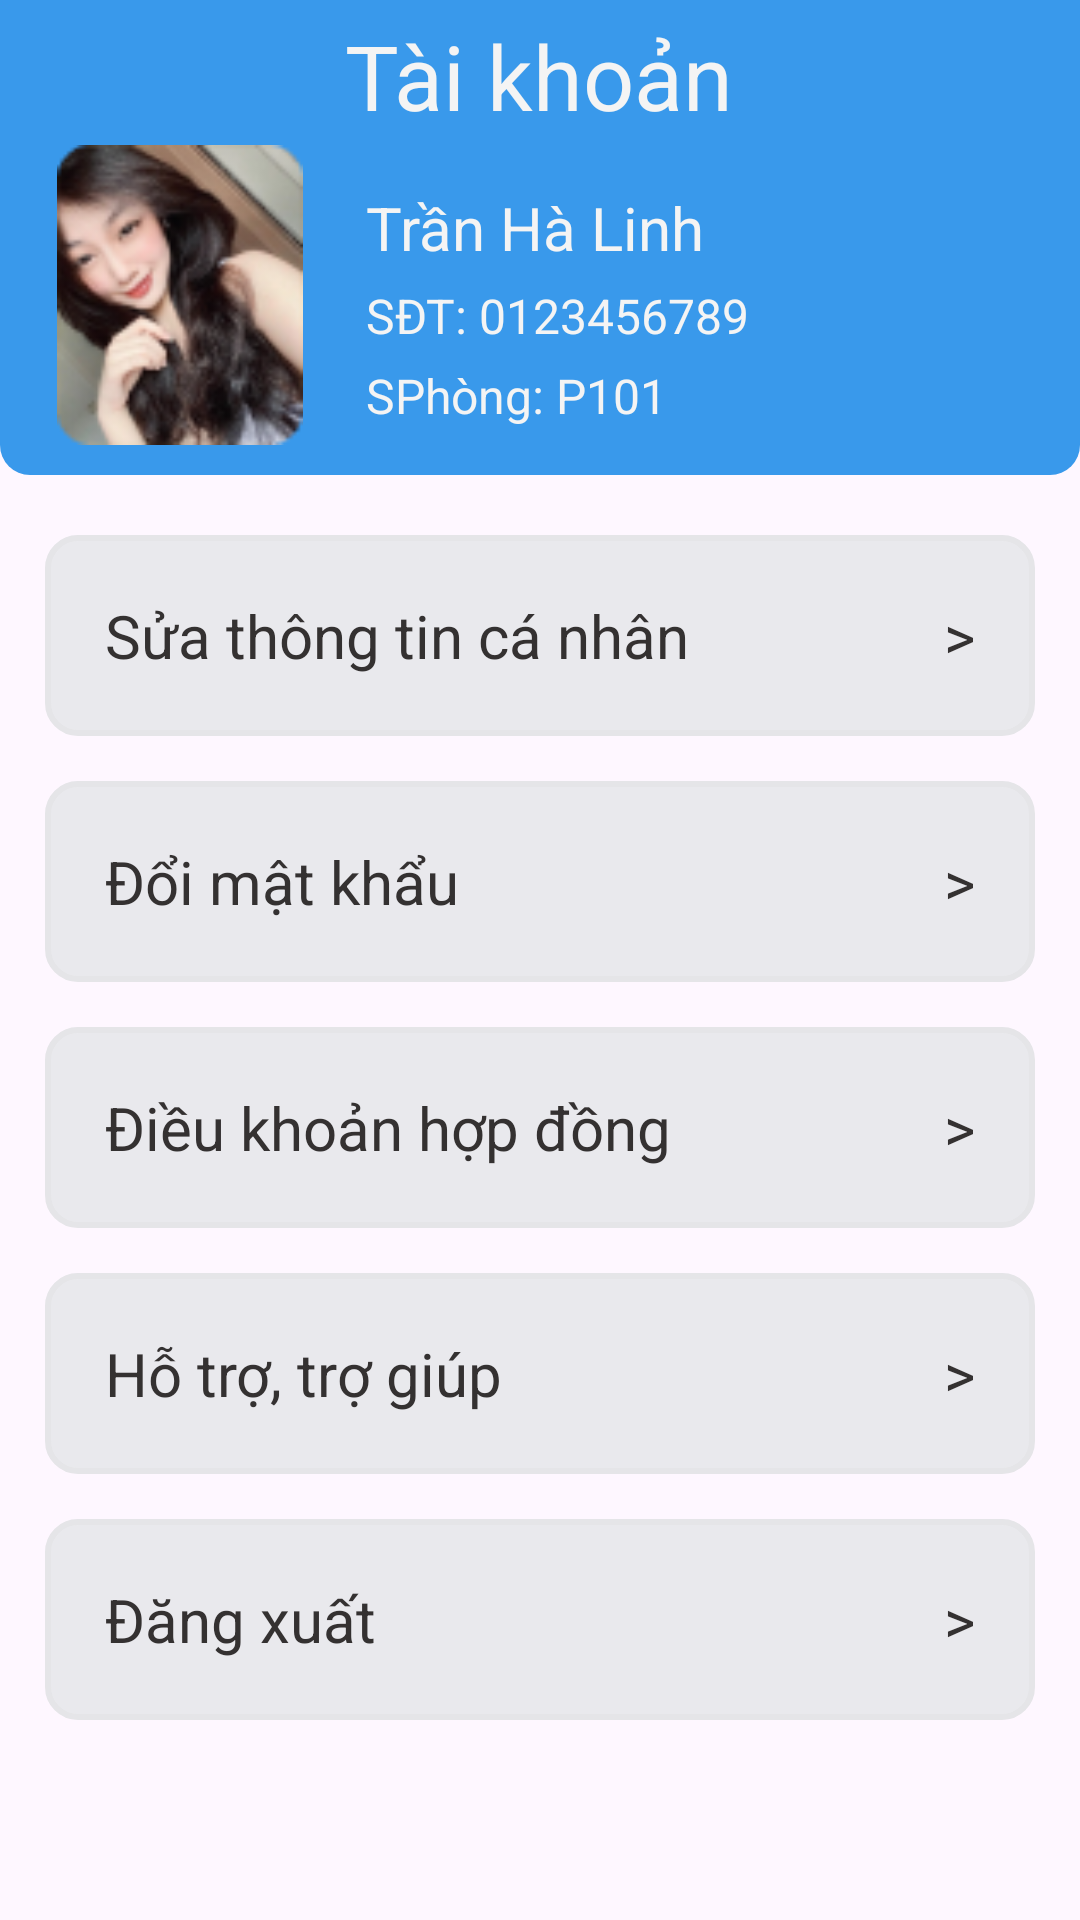

Icons on this 1080 x 1920 Android screen, each with its box as [x1,y1,x2,y2]:
avarta: [57,145,303,445]
